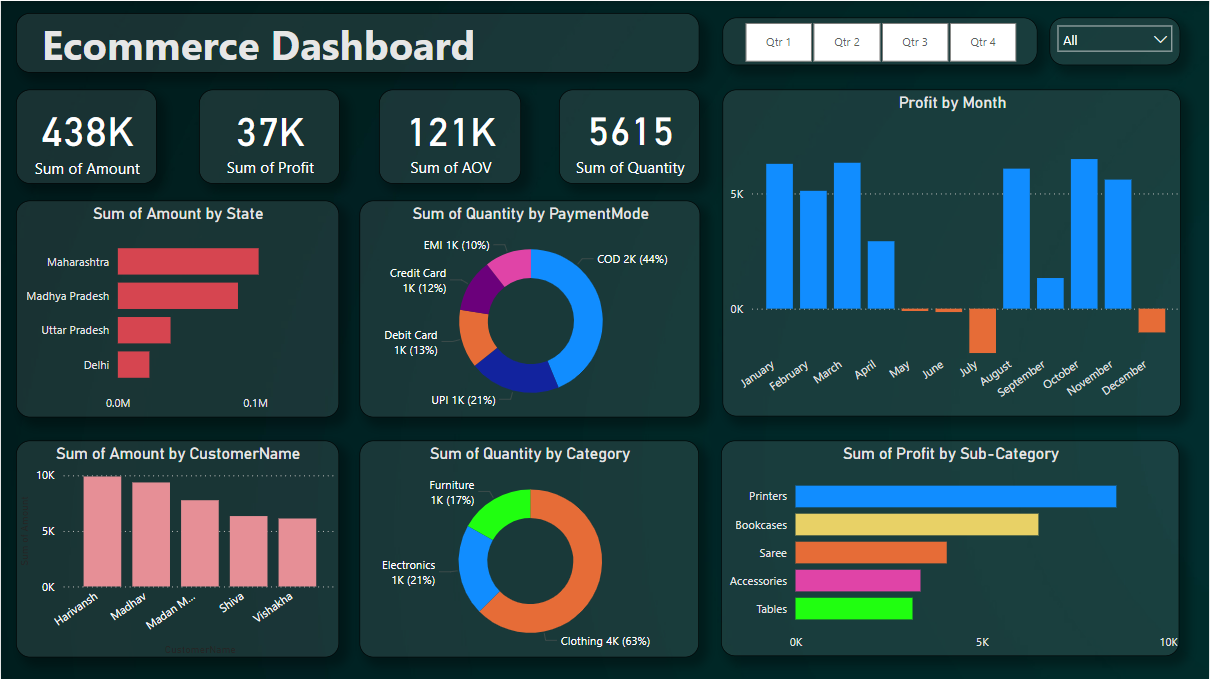

Layout of this report page (visuals, bound fields, positions):
{"tool":"powerbi","page":{"name":"Page 1","canvas":[1280,720],"ordinal":0},"visuals":[{"type":"clusteredColumnChart","title":"Profit by Month","fields":{"Category":["Orders.Order Date.Variation.Date Hierarchy.Month"],"Y":["Sum(Details.Profit)"]},"box":[764.4,94.5,486.3,346.6],"z":0},{"type":"barChart","fields":{"Category":["Details.Sub-Category"],"Y":["Sum(Details.Profit)"]},"box":[763,465.8,486.3,228.8],"z":1000},{"type":"donutChart","fields":{"Category":["Details.Category"],"Y":["Sum(Details.Quantity)"]},"box":[380.8,465.8,360.3,230.1],"z":2000},{"type":"donutChart","fields":{"Y":["Sum(Details.Quantity)"],"Category":["Details.PaymentMode"]},"box":[379.5,211,361.6,230.1],"z":3000},{"type":"card","fields":{"Values":["Sum(Details.Amount)"]},"box":[16.4,94.5,149.3,100],"z":4000},{"type":"card","fields":{"Values":["Sum(Details.Profit)"]},"box":[209.6,94.5,149.3,100],"z":5000},{"type":"card","fields":{"Values":["Sum(Details.Quantity)"]},"box":[591.8,94.5,149.3,100],"z":6000},{"type":"card","fields":{"Values":["Sum(Details.AOV)"]},"box":[401.4,94.5,150.7,100],"z":7000},{"type":"barChart","fields":{"Category":["Orders.State"],"Y":["Sum(Details.Amount)"]},"box":[16.4,211,342.5,230.1],"z":8000},{"type":"columnChart","fields":{"Category":["Orders.CustomerName"],"Y":["Sum(Details.Amount)"]},"box":[16.4,465.8,342.5,230.1],"z":9000},{"type":"textbox","box":[16.4,12.3,724.7,63],"z":10000},{"type":"slicer","fields":{"Values":["Orders.Order Date.Variation.Date Hierarchy.Quarter"]},"box":[764.4,17.8,334.2,50.7],"z":11000},{"type":"slicer","fields":{"Values":["Orders.State"]},"box":[1112.3,17.8,138.4,50.7],"z":12000}]}

Visuals, with their boxes in screenshot pixels (x1, y1, x2, y2), scaled from the page's 1280x720 canvas onto the 1210x679 screenshot:
"Profit by Month" clusteredColumnChart: rect(723, 89, 1182, 416)
barChart - Details.Sub-Category x Sum(Details.Profit): rect(721, 439, 1181, 655)
donutChart - Details.Category x Sum(Details.Quantity): rect(360, 439, 701, 656)
donutChart - Sum(Details.Quantity) x Details.PaymentMode: rect(359, 199, 701, 416)
card - Sum(Details.Amount): rect(16, 89, 157, 183)
card - Sum(Details.Profit): rect(198, 89, 339, 183)
card - Sum(Details.Quantity): rect(559, 89, 701, 183)
card - Sum(Details.AOV): rect(379, 89, 522, 183)
barChart - Orders.State x Sum(Details.Amount): rect(16, 199, 339, 416)
columnChart - Orders.CustomerName x Sum(Details.Amount): rect(16, 439, 339, 656)
textbox: rect(16, 12, 701, 71)
slicer - Orders.Order Date.Variation.Date Hierarchy.Quarter: rect(723, 17, 1039, 65)
slicer - Orders.State: rect(1051, 17, 1182, 65)
